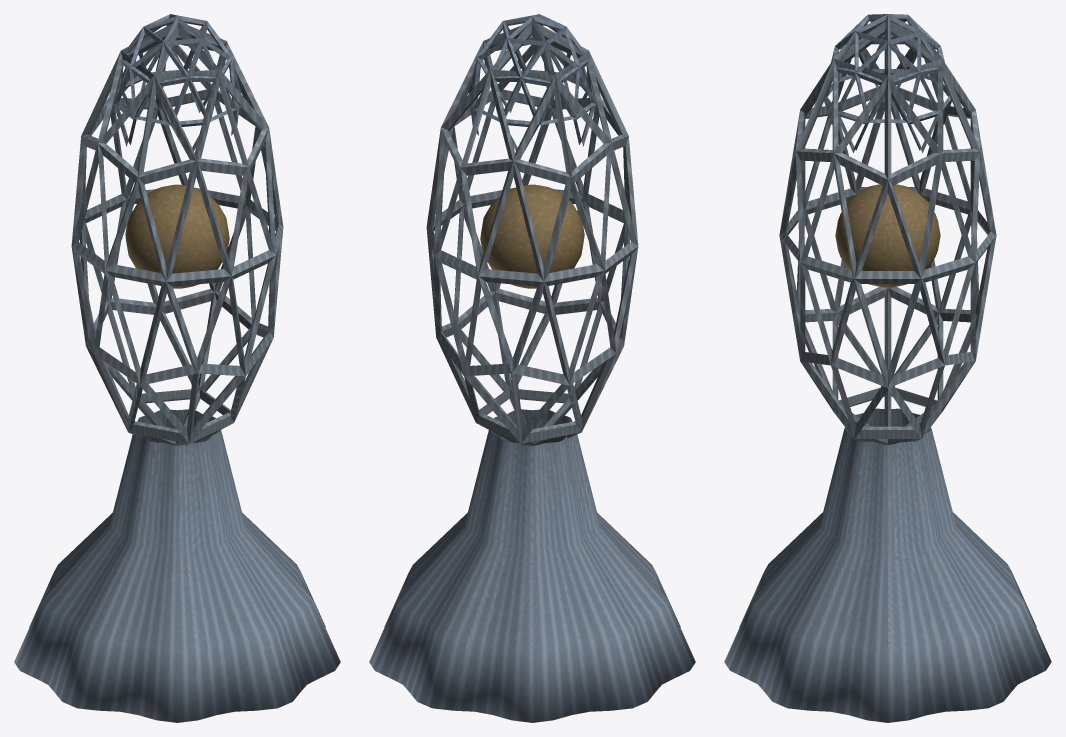
Rendered from home_beacon.glb.
3 views of the same model, side by side, from view 1: azimuth 30°, elevation 25°; view 2: azimuth 150°, elevation 25°; view 3: azimuth 270°, elevation 25° (orthographic).
Visible parts, largest first — view 1: HomeBeacon; view 2: HomeBeacon; view 3: HomeBeacon.
Boxes of the visible parts, x1,y1,x2,y2 form: HomeBeacon: (14, 14, 340, 722); HomeBeacon: (369, 14, 695, 722); HomeBeacon: (724, 14, 1051, 722).
Bounding box in the file's own units: 12.3 × 27.29 × 12.45.
3 materials, 3 textured.
